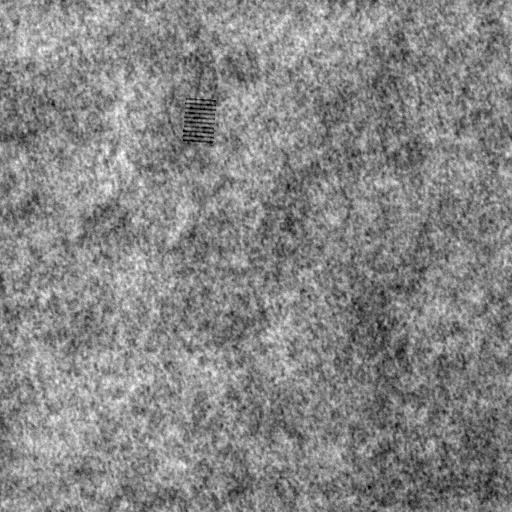DefectTypeB: (184, 98, 216, 145)
